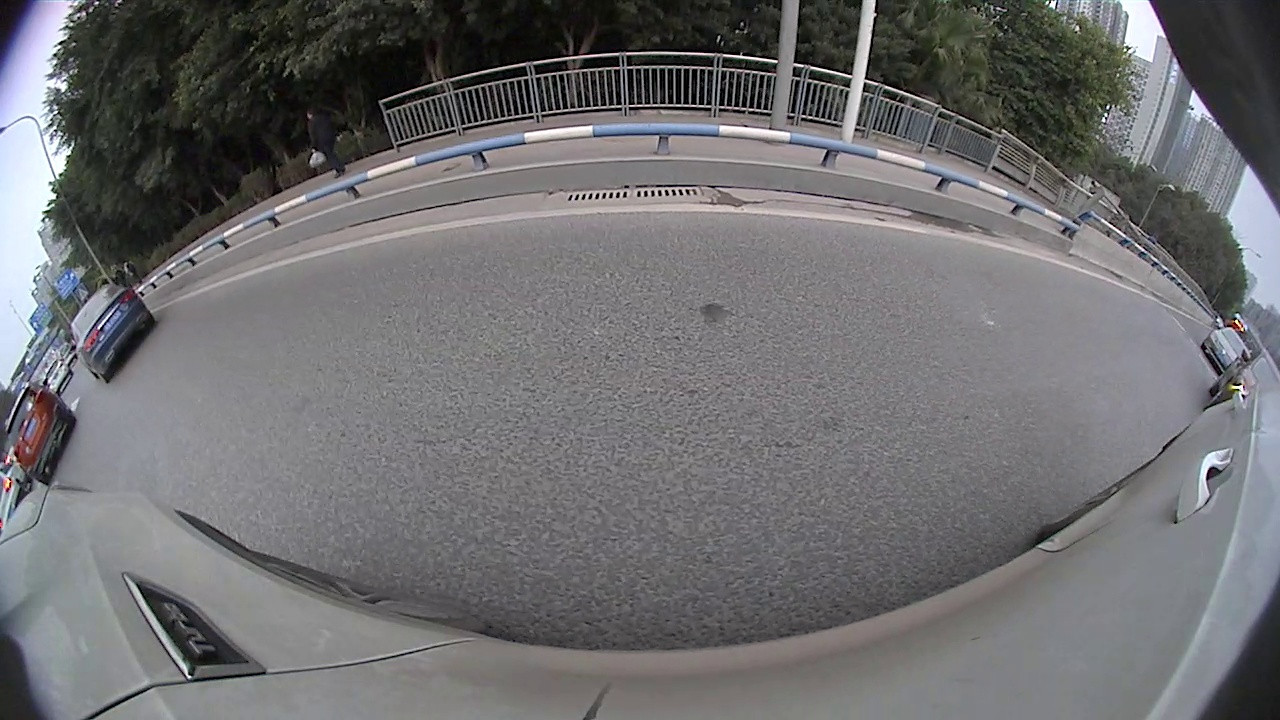car: (71, 280, 158, 384), (1, 380, 77, 482), (1205, 347, 1277, 410), (1198, 325, 1249, 379), (1, 459, 36, 532), (40, 356, 74, 393)
person: (310, 108, 338, 180), (120, 256, 145, 289)
rear: (58, 411, 82, 431), (99, 363, 119, 385), (33, 467, 55, 487), (1204, 376, 1220, 399), (139, 312, 158, 331)
